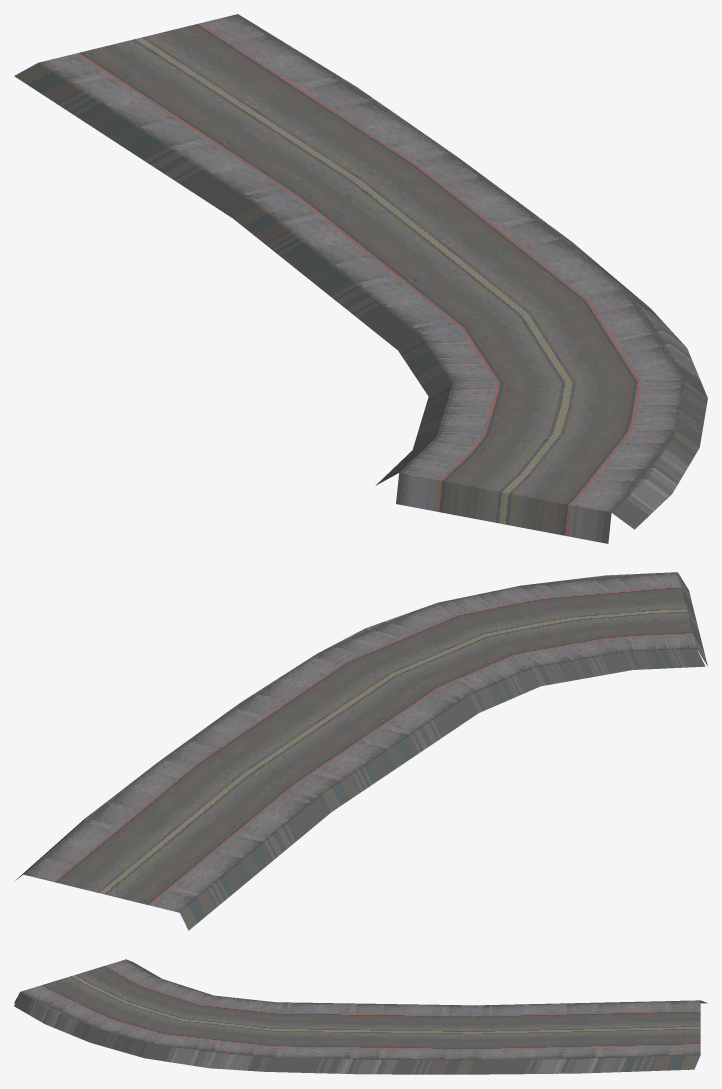
File: lodroadssfs25.obj
The picture shows the model from 3 angles, top to bottom: view 1: azimuth 30°, elevation 25°; view 2: azimuth 150°, elevation 25°; view 3: azimuth 270°, elevation 25°; orthographic projection. The views are drawn at different scales.
Visible parts, largest first — view 1: LODROADSsfs25; view 2: LODROADSsfs25; view 3: LODROADSsfs25.
Boxes of the visible parts, left/top/right/bottom form: LODROADSsfs25: left=14, top=14, right=707, bottom=543; LODROADSsfs25: left=15, top=572, right=707, bottom=930; LODROADSsfs25: left=14, top=959, right=707, bottom=1074.
Bounding box in the file's own units: 40.08 × 2.38 × 106.
Materials: 1 (1 with a texture image).
